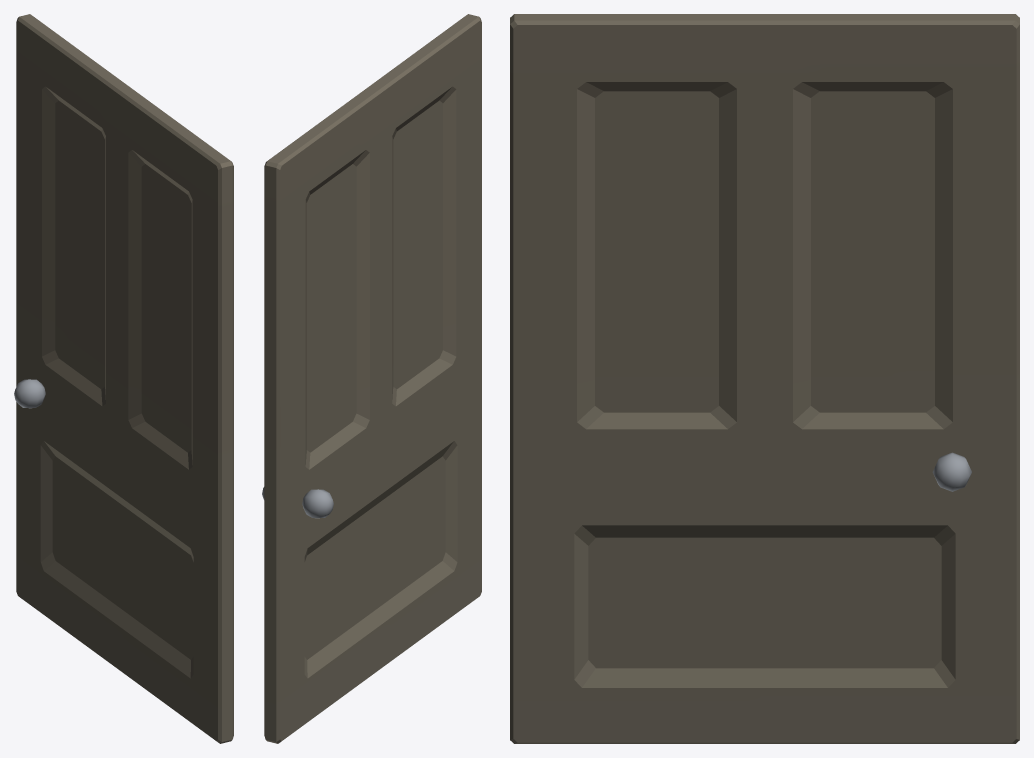
The model's file is OE_Door_ANIM.fbx.
3 renders of one model, left to right at view 1: azimuth 30°, elevation 25°; view 2: azimuth 150°, elevation 25°; view 3: azimuth 270°, elevation 25°, orthographic. The views are drawn at different scales.
Visible parts, largest first — view 1: boss_door.001; view 2: boss_door.001; view 3: boss_door.001.
Boxes of the visible parts, left/top/right/bottom form: boss_door.001: left=14, top=14, right=233, bottom=743; boss_door.001: left=262, top=14, right=481, bottom=743; boss_door.001: left=510, top=14, right=1019, bottom=743.
Bounding box in the file's own units: 27.13 × 222 × 142.
